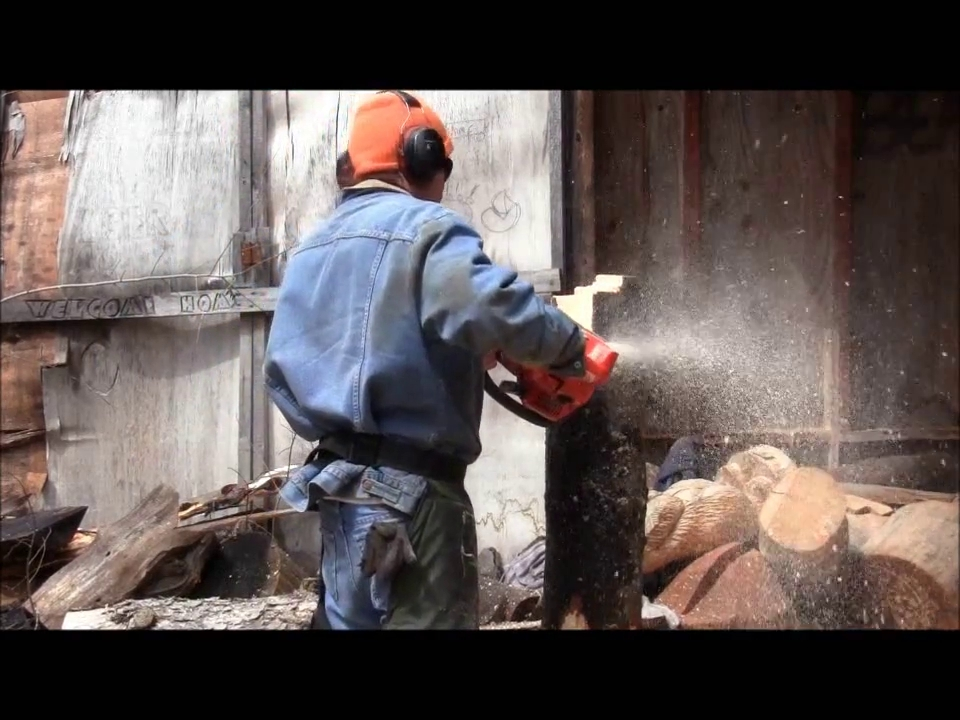person: (264, 89, 582, 629)
